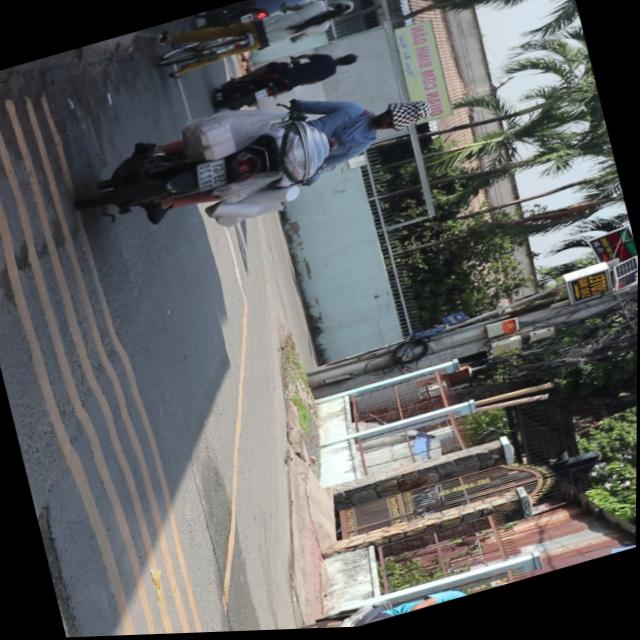licenseplate: (79, 57, 452, 266)
motorcyclist: (370, 97, 435, 141)
nohelmet: (195, 160, 229, 193)
